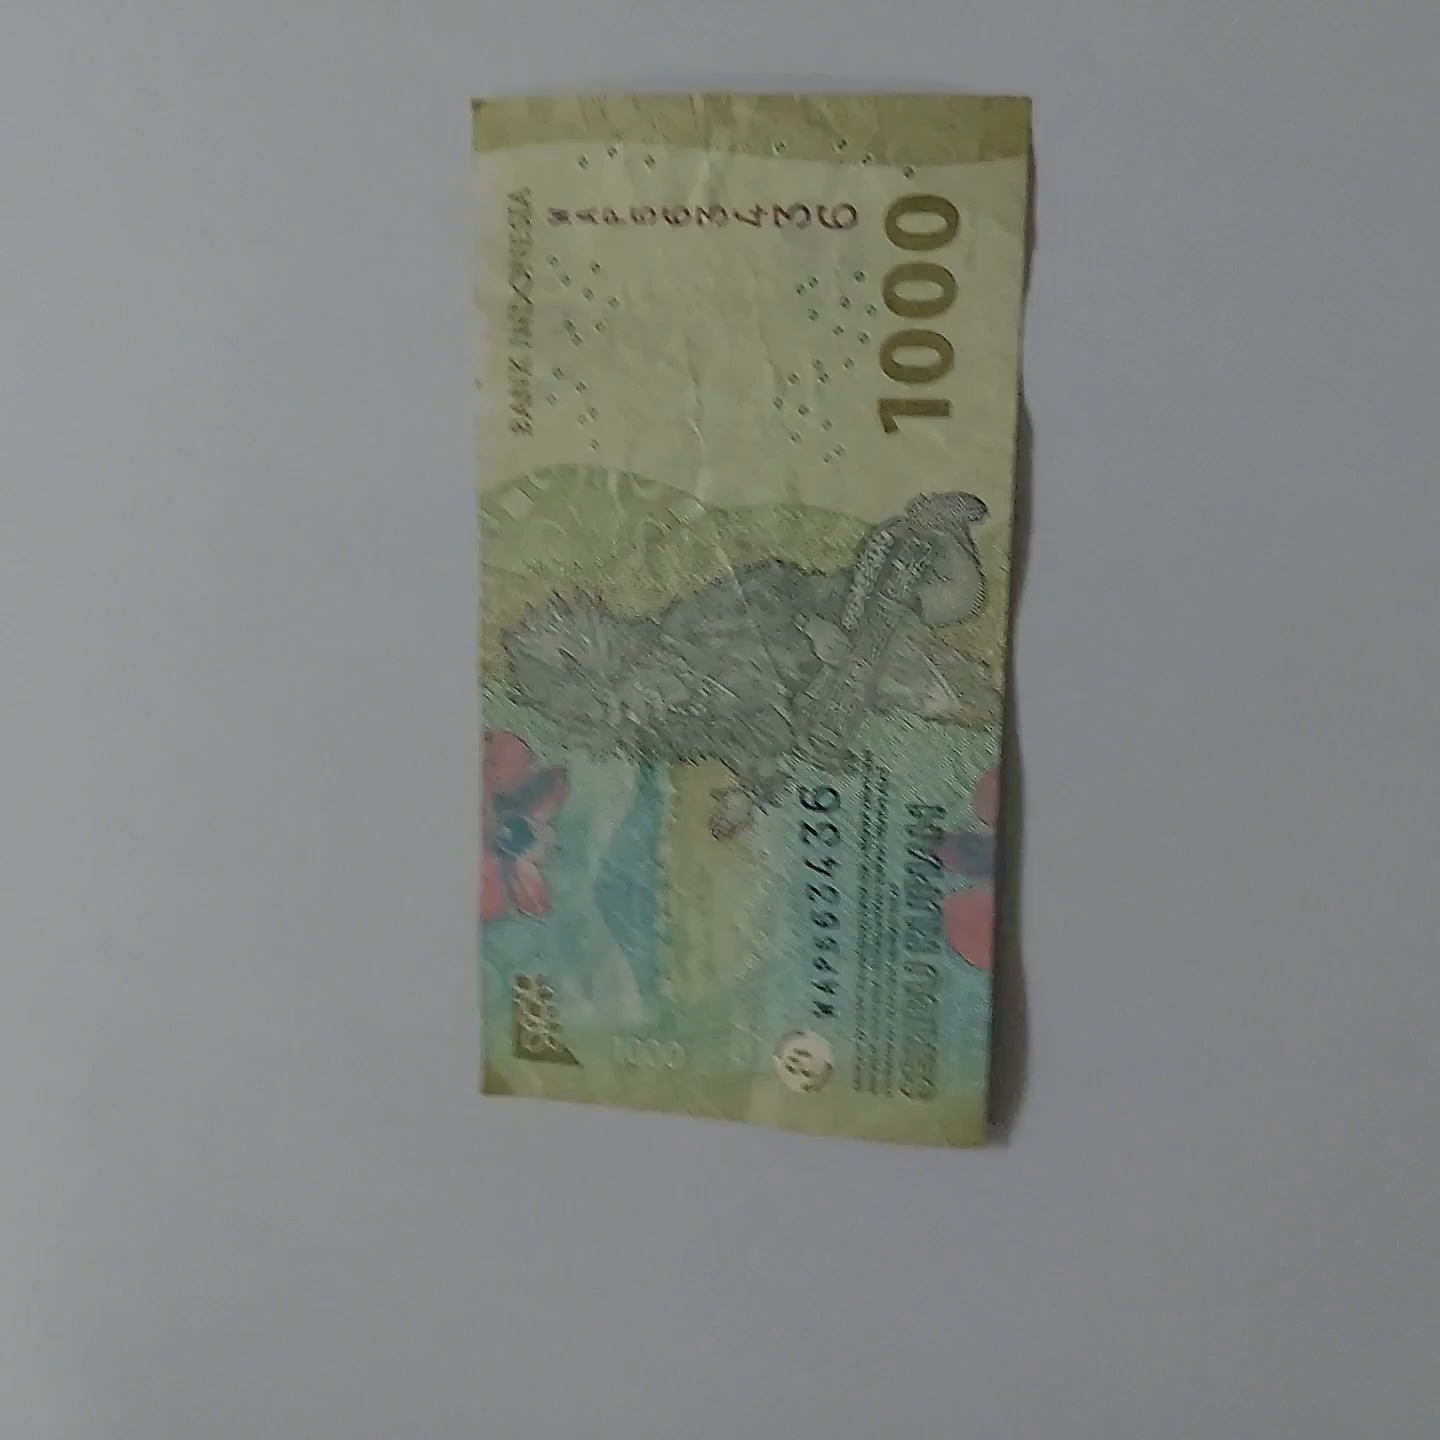1k: (433, 82, 1006, 1170)
